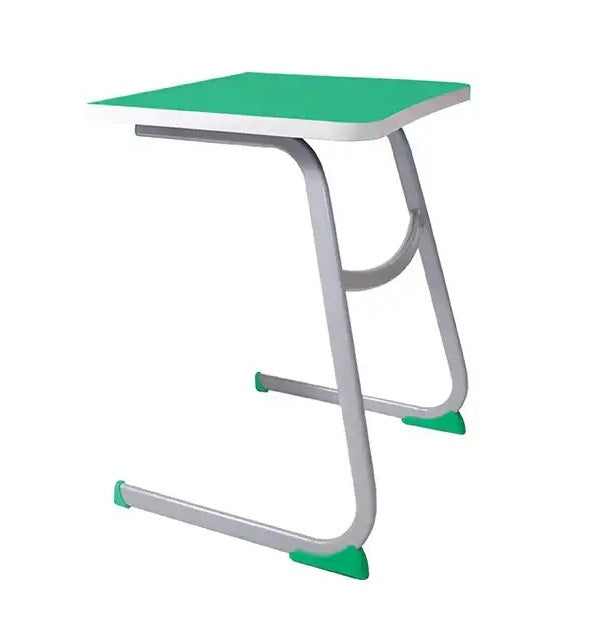m01: (86, 71, 472, 580)
